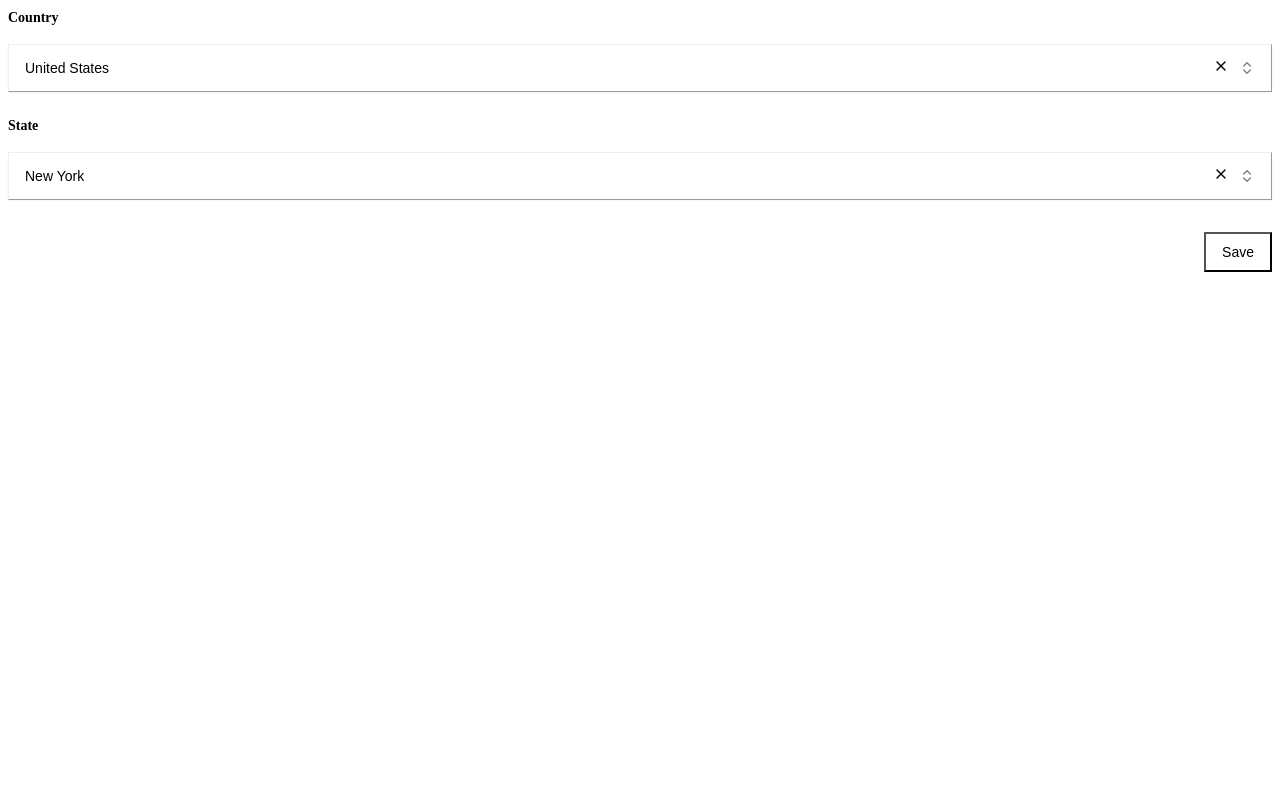
Test: Frontend UI Hooks Reactivity › should dynamically update dropdown options based on sibling values (Dependent Dropdowns)
Open dropdown and select Canada
Click the dropdown labelled "United States" at (67, 68), box [8,44,1272,92]
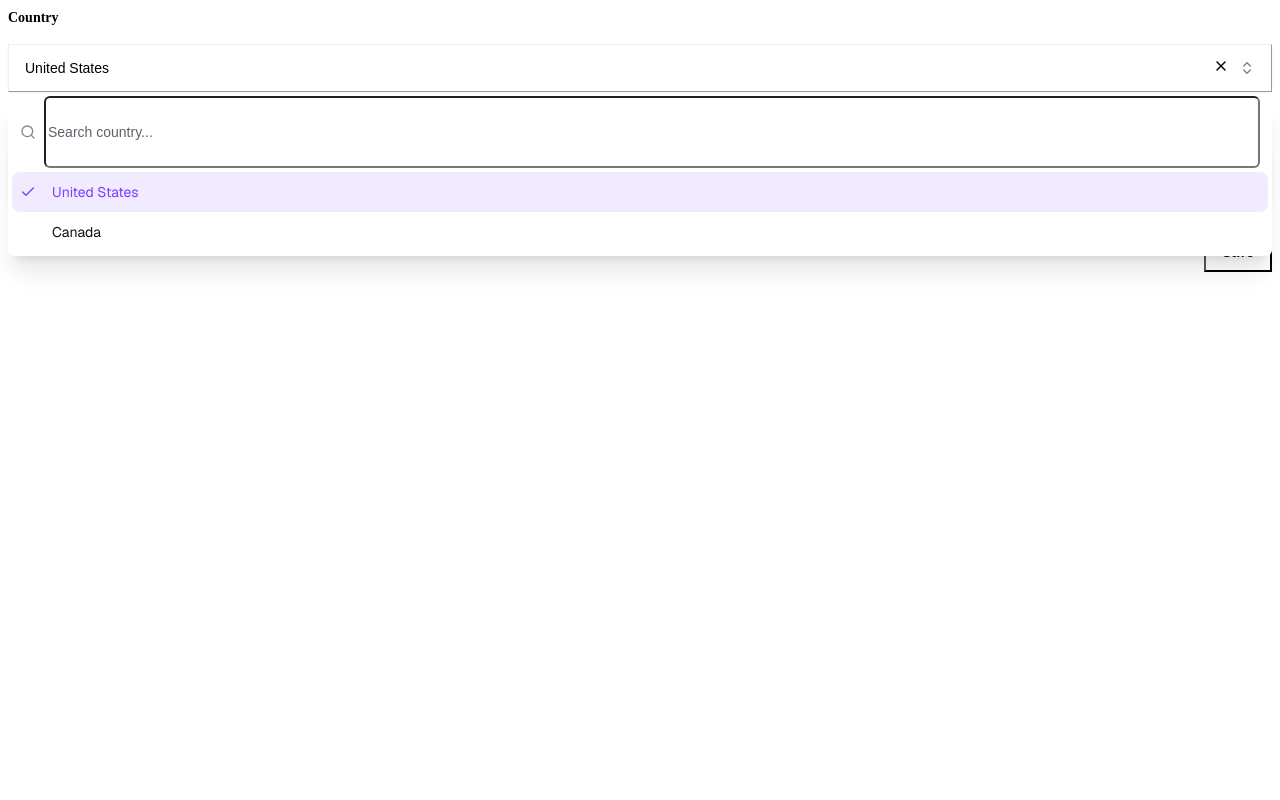
Click the option "Canada" at (76, 232), box [52,223,101,241]
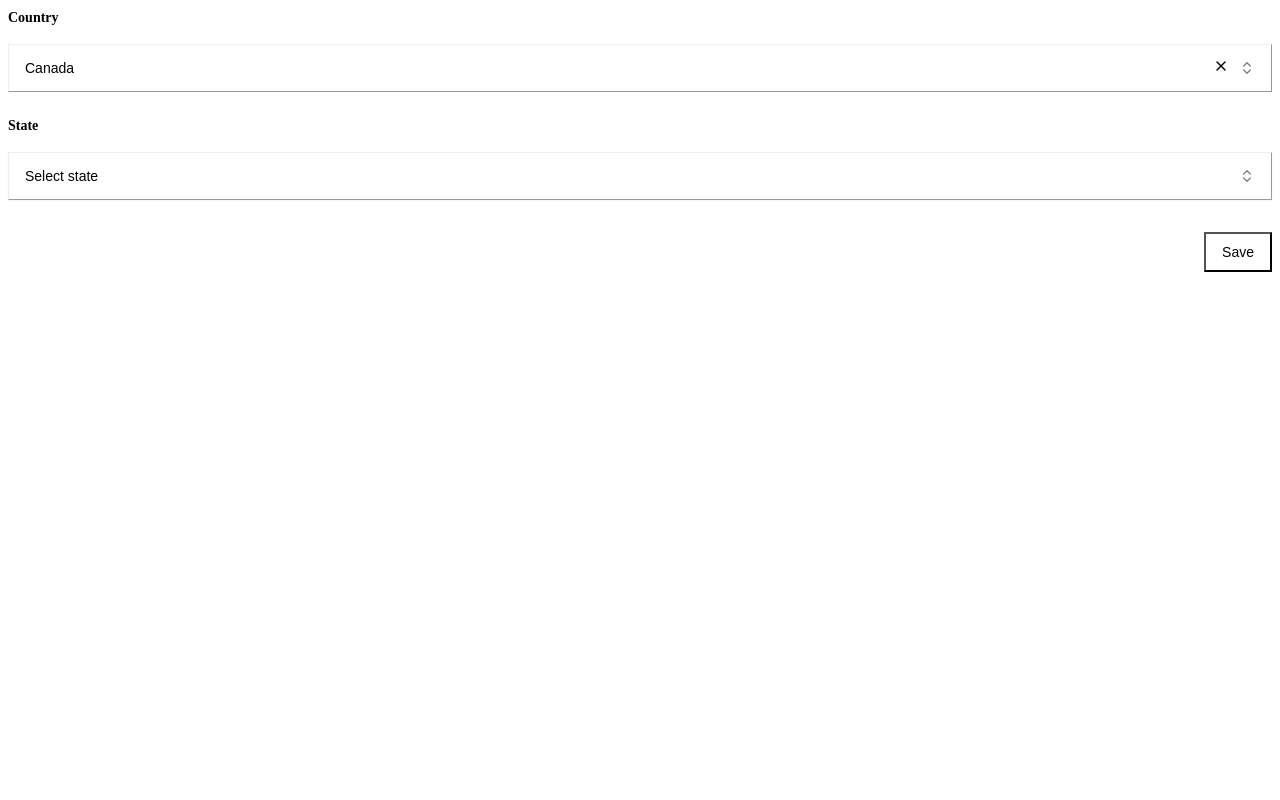
Check: the dropdown no longer shows "New York"
Open State dropdown and check that Ontario and Quebec are now the options
Click the dropdown labelled "Select state" at (62, 176), box [8,152,1272,200]
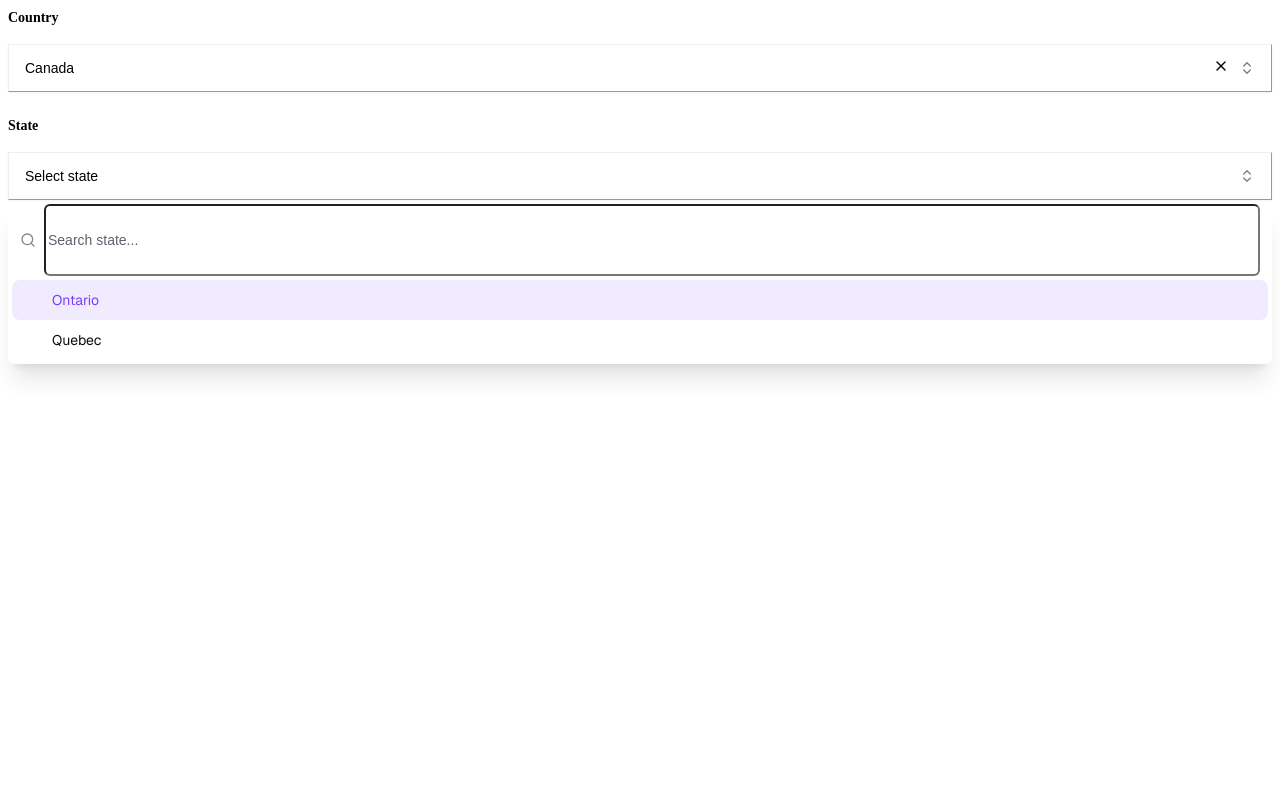
Check: the option "Ontario" is shown, box [12,280,1268,320]
Check: the option "Quebec" is shown, box [52,331,101,349]
